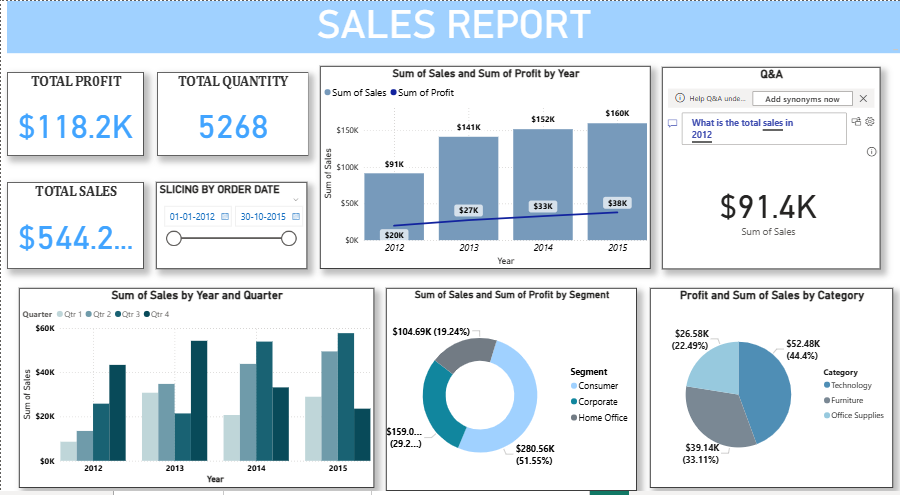

Layout of this report page (visuals, bound fields, positions):
{"tool":"powerbi","page":{"name":"Overall Sales","canvas":[1500,832],"ordinal":0},"visuals":[{"type":"textbox","title":"SALES REPORT","box":[9.8,0,1490.2,86.6],"z":0},{"type":"card","title":"TOTAL PR0FIT","fields":{"Values":["Sum(Orders.Profit)"]},"box":[38.2,118.9,300.2,138.8],"z":1000},{"type":"card","title":"TOTAL SALES","fields":{"Values":["Sum(Orders.Sales)"]},"box":[38.2,301.6,288.9,144.4],"z":2000},{"type":"card","title":"TOTAL QUANTITY","fields":{"Values":["Sum(Orders.Quantity)"]},"box":[458.8,117.5,263.4,140.2],"z":3000},{"type":"slicer","title":"SLICING BY ORDER DATE","fields":{"Values":["Orders.Order Date"]},"box":[385.1,284.6,383.7,161.4],"z":4000},{"type":"lineStackedColumnComboChart","fields":{"Category":["Orders.Year","Orders.Order Date.Variation.Date Hierarchy.Year","Orders.Order Date.Variation.Date Hierarchy.Quarter","Orders.Order Date.Variation.Date Hierarchy.Month","Orders.Order Date.Variation.Date Hierarchy.Day"],"Y":["Sum(Orders.Sales)"],"Y2":["Sum(Orders.Profit)"]},"box":[856.7,107.6,606,354],"z":5000},{"type":"clusteredColumnChart","fields":{"Category":["Orders.Year"],"Series":["Orders.Quarter"],"Y":["Sum(Orders.Sales)"]},"box":[30,478.3,591.7,333.3],"z":6000},{"type":"donutChart","fields":{"Category":["Orders.Segment"],"Y":["Sum(Orders.Sales)"]},"box":[641.7,478.3,418.3,338.3],"z":7000},{"type":"pieChart","title":"Profit and Sum of Sales by Category","fields":{"Category":["Orders.Category"],"Y":["Sum(Orders.Profit)"]},"box":[1081.7,478.3,405,333.3],"z":8000}]}

Visuals, with their boxes in screenshot pixels (x1, y1, x2, y2), scaled from the page's 1500x832 canvas onto the 900x495 screenshot:
"SALES REPORT" textbox: {"x1": 6, "y1": 0, "x2": 899, "y2": 52}
"TOTAL PR0FIT" card: {"x1": 23, "y1": 71, "x2": 203, "y2": 153}
"TOTAL SALES" card: {"x1": 23, "y1": 179, "x2": 196, "y2": 265}
"TOTAL QUANTITY" card: {"x1": 275, "y1": 70, "x2": 433, "y2": 153}
"SLICING BY ORDER DATE" slicer: {"x1": 231, "y1": 169, "x2": 461, "y2": 265}
lineStackedColumnComboChart - Orders.Year x Orders.Order Date.Variation.Date Hierarchy.Year: {"x1": 514, "y1": 64, "x2": 878, "y2": 275}
clusteredColumnChart - Orders.Year x Orders.Quarter: {"x1": 18, "y1": 285, "x2": 373, "y2": 483}
donutChart - Orders.Segment x Sum(Orders.Sales): {"x1": 385, "y1": 285, "x2": 636, "y2": 486}
"Profit and Sum of Sales by Category" pieChart: {"x1": 649, "y1": 285, "x2": 892, "y2": 483}
